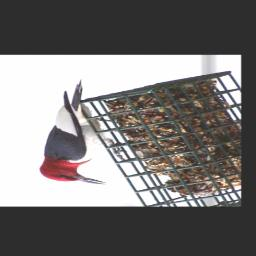Woodpecker: (38, 79, 125, 185)
